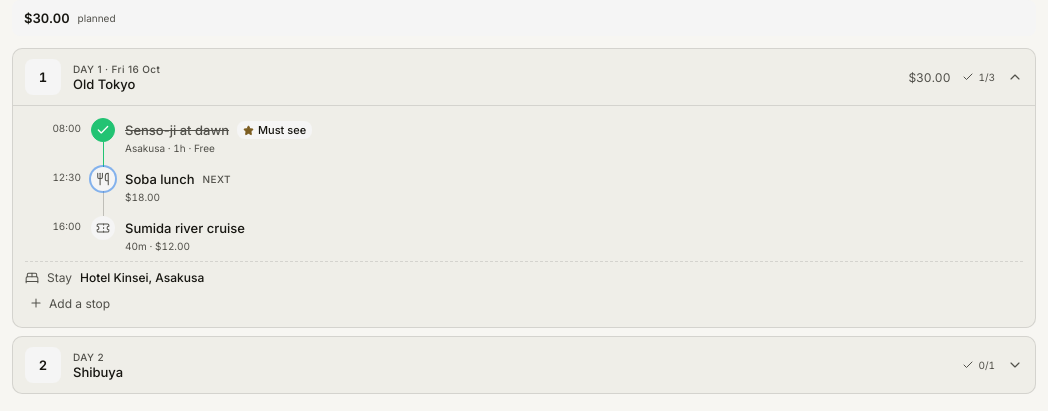
Scenario: itinerary: logic › marks the first unticked stop as next and opens one day at a time
Check: the list item "12:30 Soba lunch Next $18.00" is shown, box [52, 167, 231, 203]
Click the button "2 Day 2 Shibuya 0/1" at coordinates (43, 365), box [13, 337, 1035, 393]
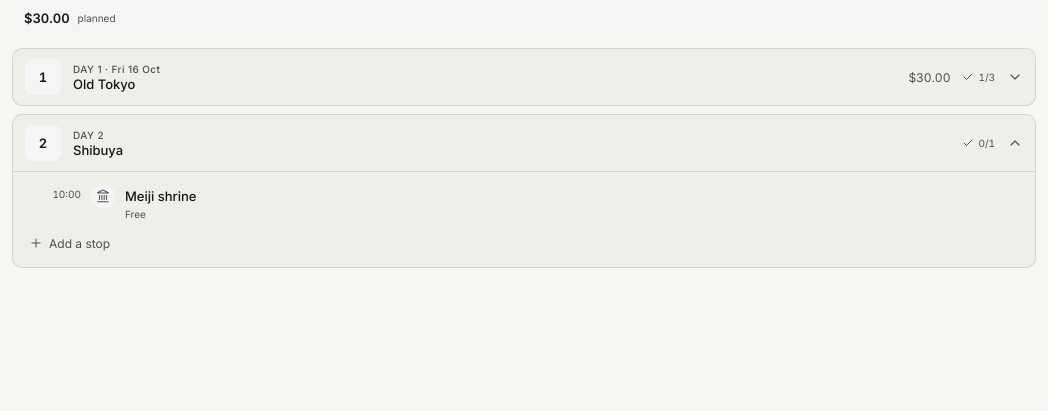
Check: the button "1 Day 1 · Fri 16 Oct Old Tokyo $30.00 1/3" is collapsed, box [13, 49, 1035, 105]
Check: the button "2 Day 2 Shibuya 0/1" is expanded, box [13, 115, 1035, 171]
Check: the checkbox named "Meiji shrine" is shown, box [91, 184, 115, 208]
